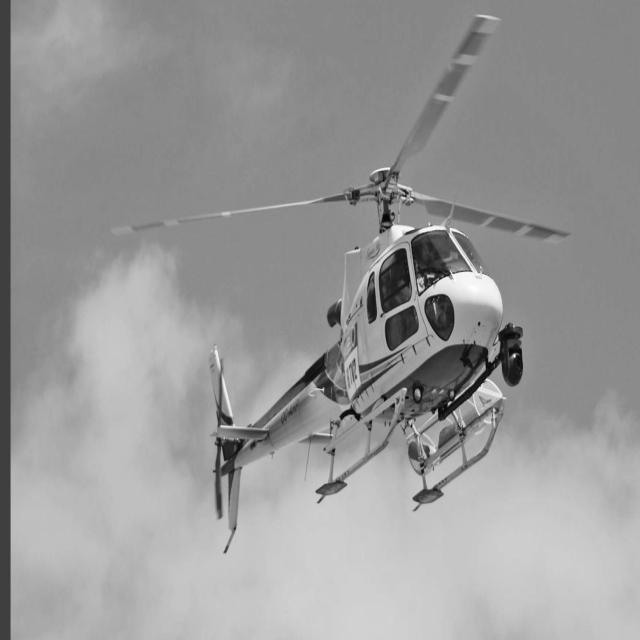helicopter: (105, 6, 581, 565)
